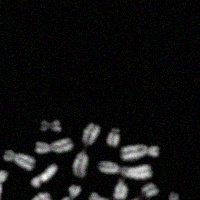chromosome: (73, 123, 100, 179), (98, 162, 151, 179), (30, 163, 58, 188), (120, 143, 160, 160), (3, 150, 35, 170), (36, 138, 73, 154), (58, 184, 84, 200), (114, 179, 127, 200), (18, 192, 51, 200), (88, 191, 117, 200), (106, 127, 119, 147), (141, 182, 158, 197), (41, 119, 60, 132), (0, 170, 7, 200), (161, 191, 178, 200), (127, 196, 140, 200)
